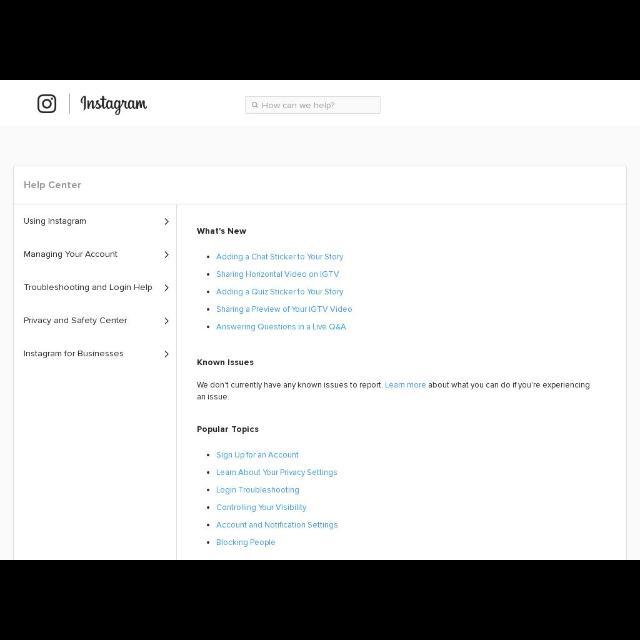icon: (38, 94, 56, 112), (164, 282, 170, 294), (252, 102, 258, 110), (164, 218, 170, 226), (164, 350, 168, 360), (164, 250, 168, 258), (164, 317, 168, 325), (206, 254, 210, 260), (206, 272, 210, 278), (206, 488, 210, 494), (206, 307, 210, 311), (206, 523, 210, 527), (207, 290, 210, 294), (207, 324, 210, 328), (207, 452, 210, 456), (206, 471, 210, 474), (207, 540, 210, 544), (207, 506, 209, 510)
image: (79, 94, 147, 116)
input: (246, 96, 380, 112)
text: (196, 381, 590, 402), (215, 304, 353, 314), (215, 254, 345, 264), (216, 288, 346, 298), (24, 283, 152, 293), (215, 520, 338, 530), (216, 469, 338, 479), (216, 323, 348, 331), (23, 316, 126, 326), (216, 271, 340, 279), (23, 250, 119, 260), (217, 503, 309, 513), (215, 486, 299, 496), (22, 350, 124, 358), (197, 424, 260, 436), (24, 181, 82, 193), (23, 217, 87, 227), (262, 102, 336, 110), (197, 358, 255, 368), (196, 227, 248, 237), (216, 539, 278, 547), (216, 452, 298, 458)
toolbar: (1, 81, 639, 127)
